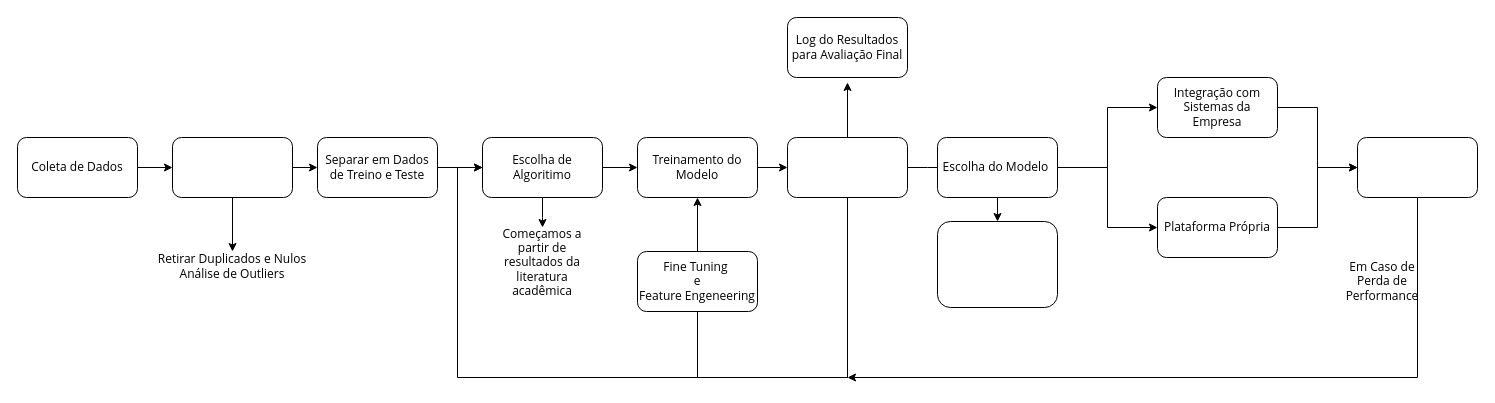
The diagram is 1495 pixels wide and 403 high, and some of its shapes have lost their labels. The shapes that lost their labels are listed below. From the top down, each one's centre as x and y in pixels, then its label:
(232,167): Tratamento Inicial
(847,167): Teste do Modelo
(1417,167): Avaliação Contínua
(997,264): Estudo de Diminuição de Prejuízos e Estimação de Preço do Modelo
